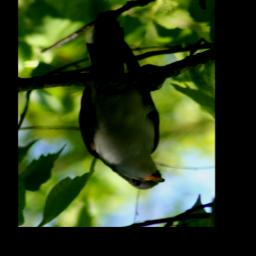Cuckoo: (77, 12, 166, 190)
